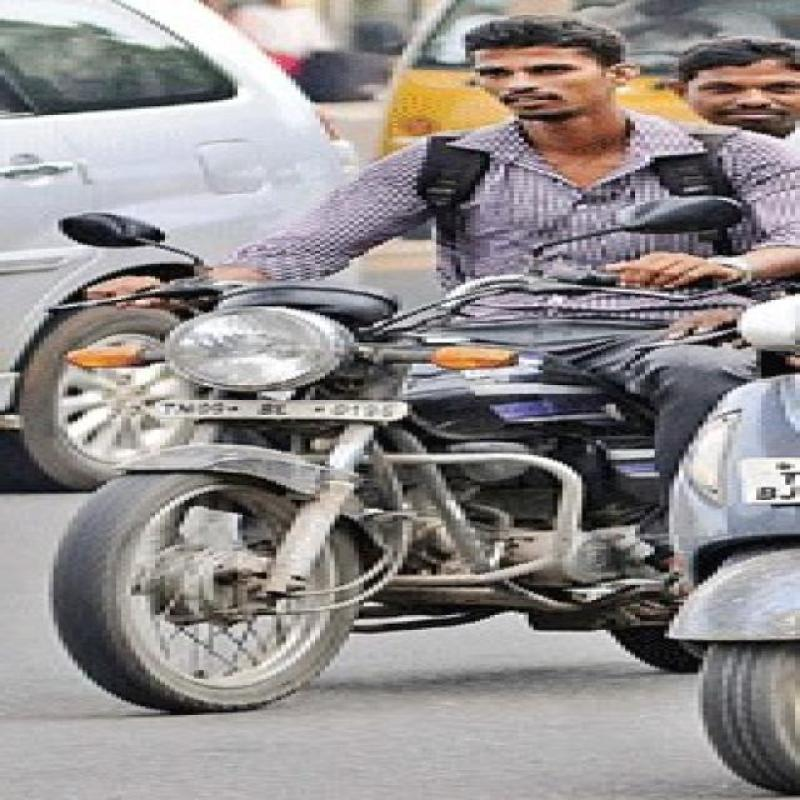nohelmet: (442, 18, 649, 123)
